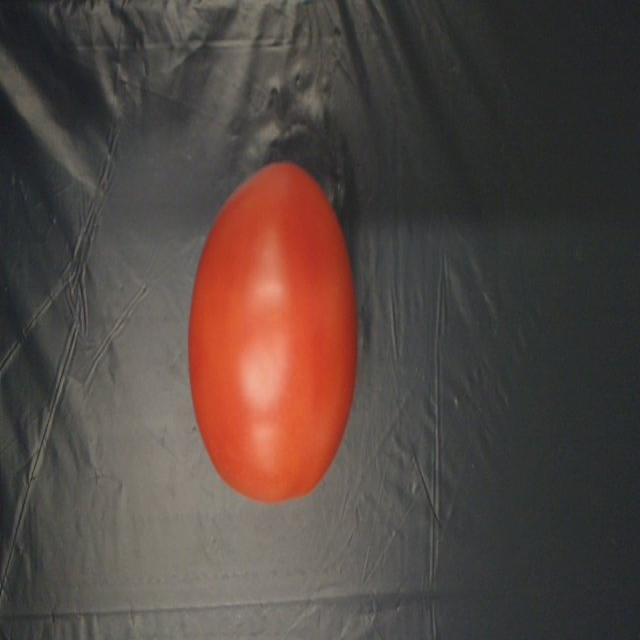sari: (183, 146, 367, 508)
